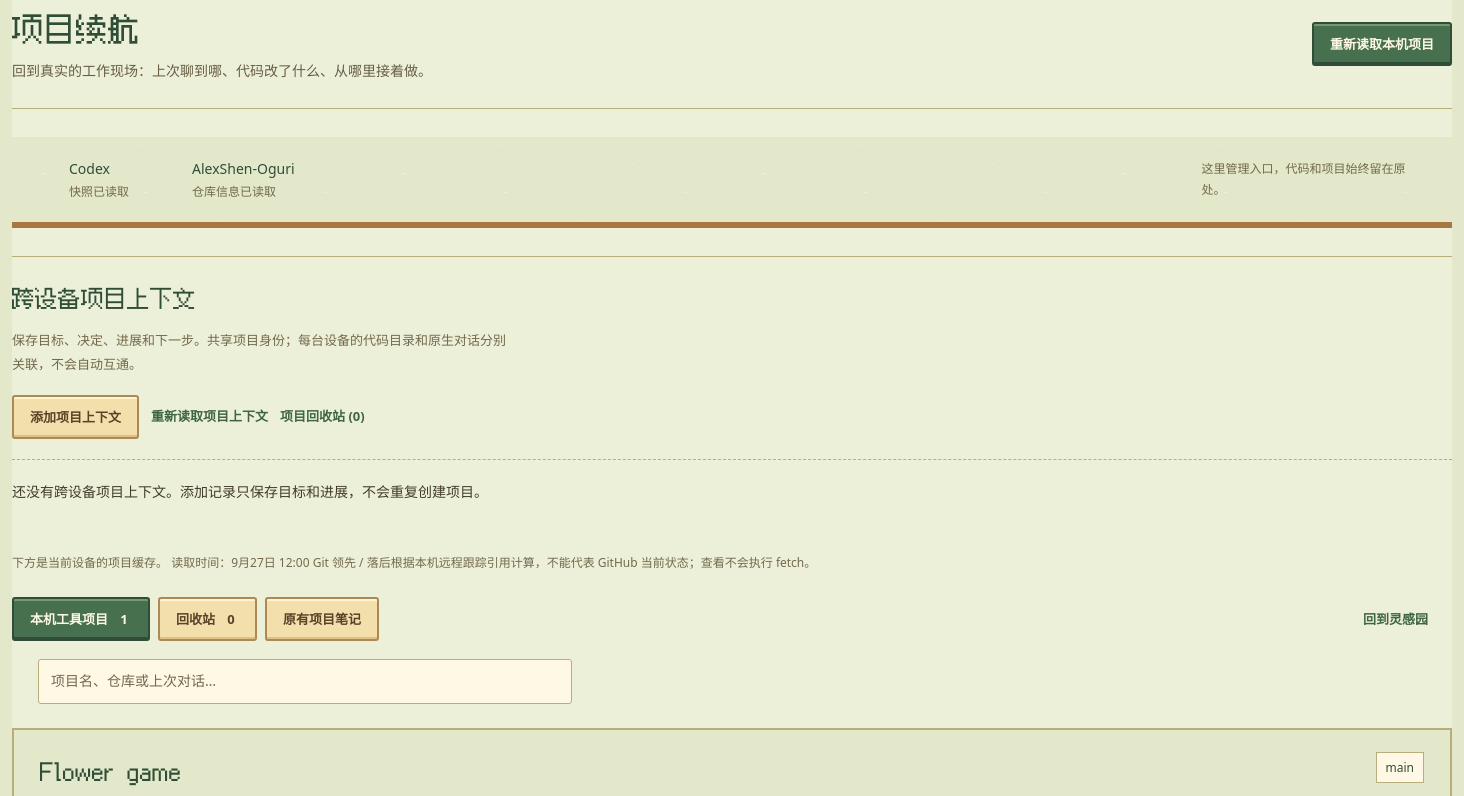
it: real project resumption › does not report refresh success when integrations fail to refresh
Click the button "重新读取本机项目". click: [1382, 44]
box: [1312,22,1452,66]
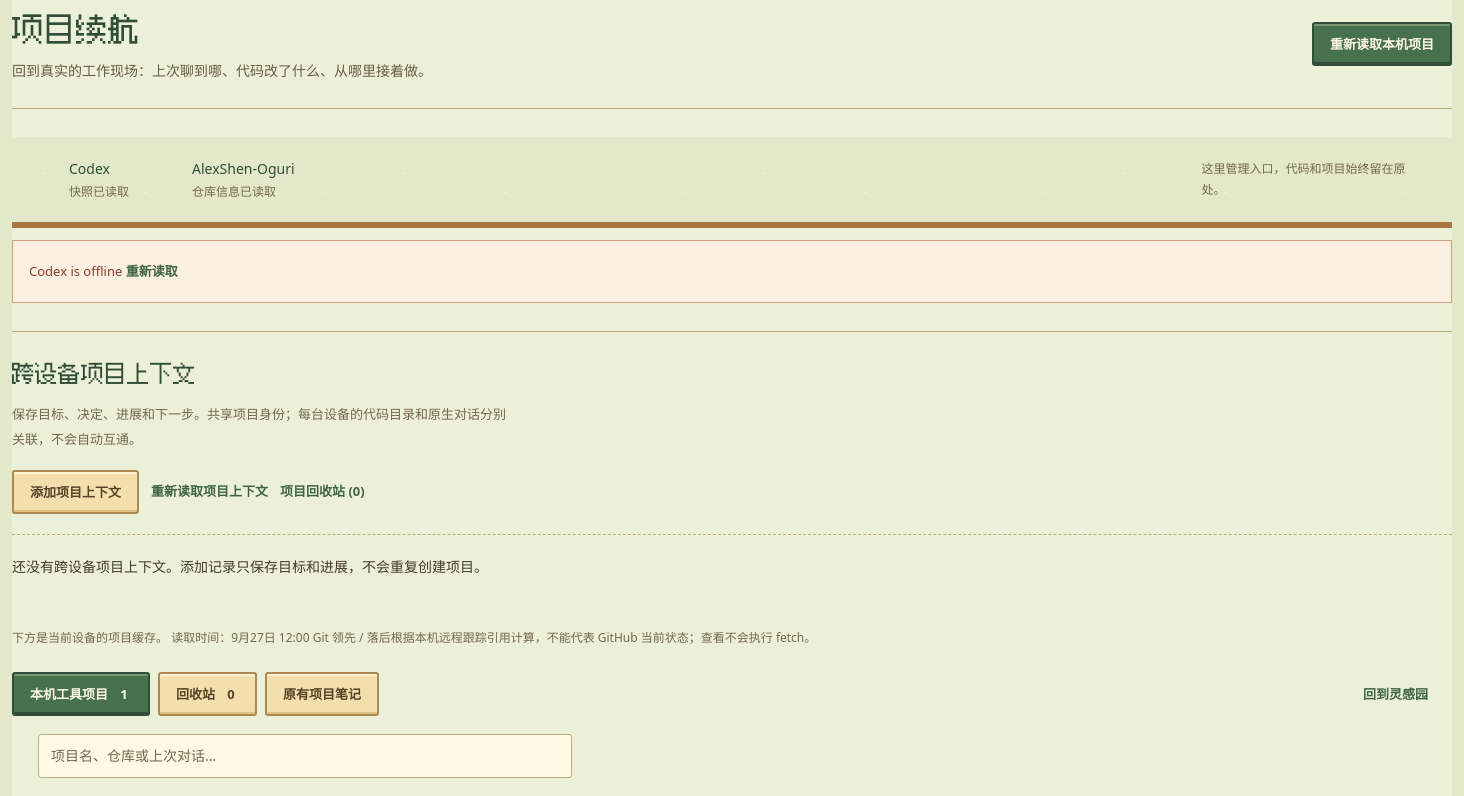
Now the text "Codex is offline" is shown, box [29,262,122,280]
